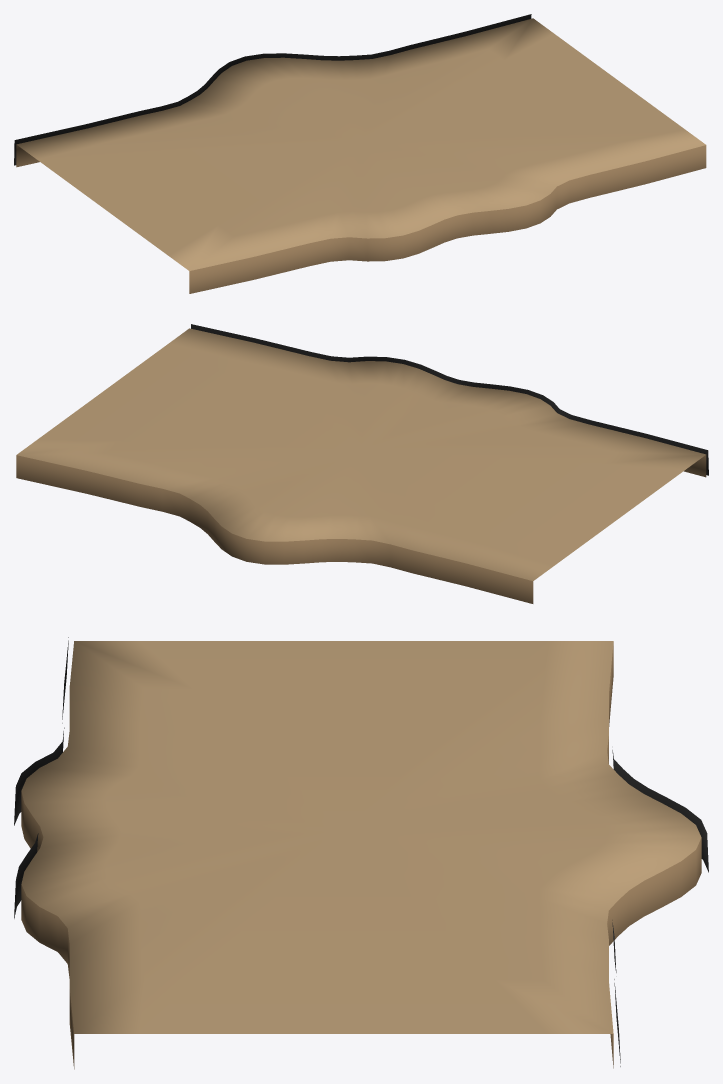
File: td_pathtile1.fbx
3 renders of one model, top to bottom at view 1: azimuth 30°, elevation 25°; view 2: azimuth 150°, elevation 25°; view 3: azimuth 270°, elevation 25°, orthographic. The views are drawn at different scales.
Visible parts, largest first — view 1: Path_Straight; view 2: Path_Straight; view 3: Path_Straight.
Boxes of the visible parts, box(x1,y1,x2,y2) form: Path_Straight: box(14, 14, 706, 293); Path_Straight: box(16, 324, 708, 603); Path_Straight: box(14, 637, 708, 1069).
Bounding box in the file's own units: 200 × 11.7 × 149.
